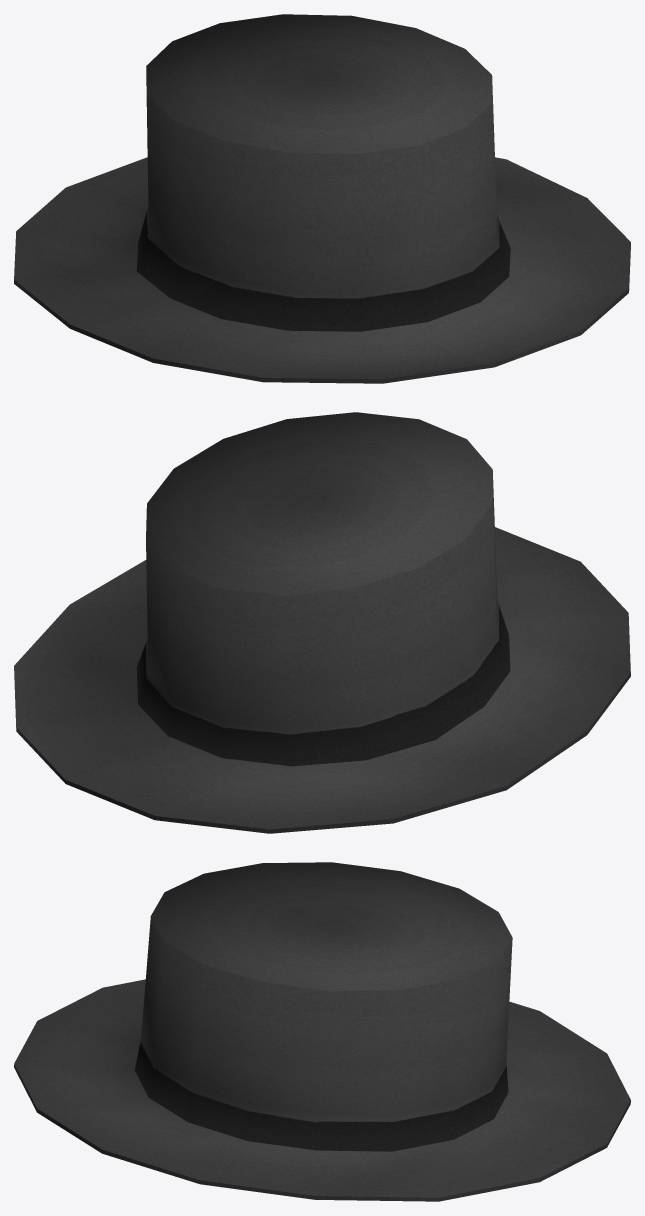
File: Desperado.obj
The picture shows the model from 3 angles, top to bottom: view 1: azimuth 30°, elevation 25°; view 2: azimuth 150°, elevation 25°; view 3: azimuth 270°, elevation 25°; orthographic projection. The views are drawn at different scales.
Parts seen in each view (by area): view 1: Circle; view 2: Circle; view 3: Circle.
Part boxes in pixels (x1,y1,x2,y2): Circle: (14, 14, 630, 383); Circle: (14, 412, 630, 833); Circle: (14, 862, 630, 1201).
Size of the model in its own units: 0.00226 by 0.000865 by 0.00257.
